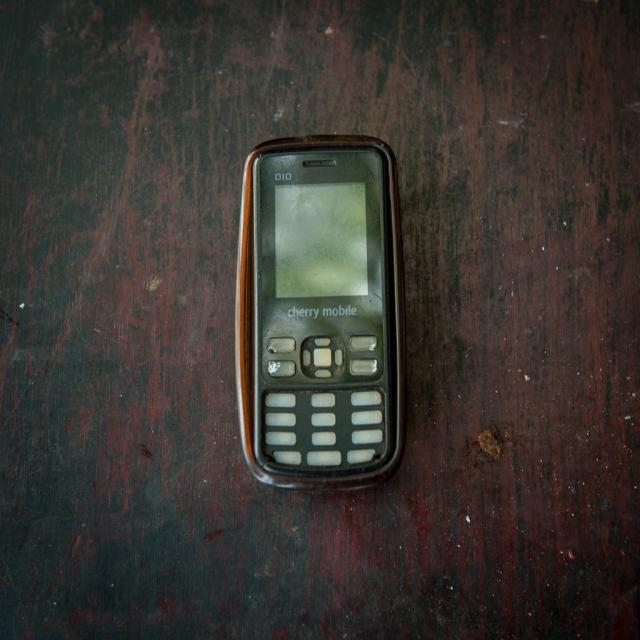Phone: (232, 133, 406, 492)
